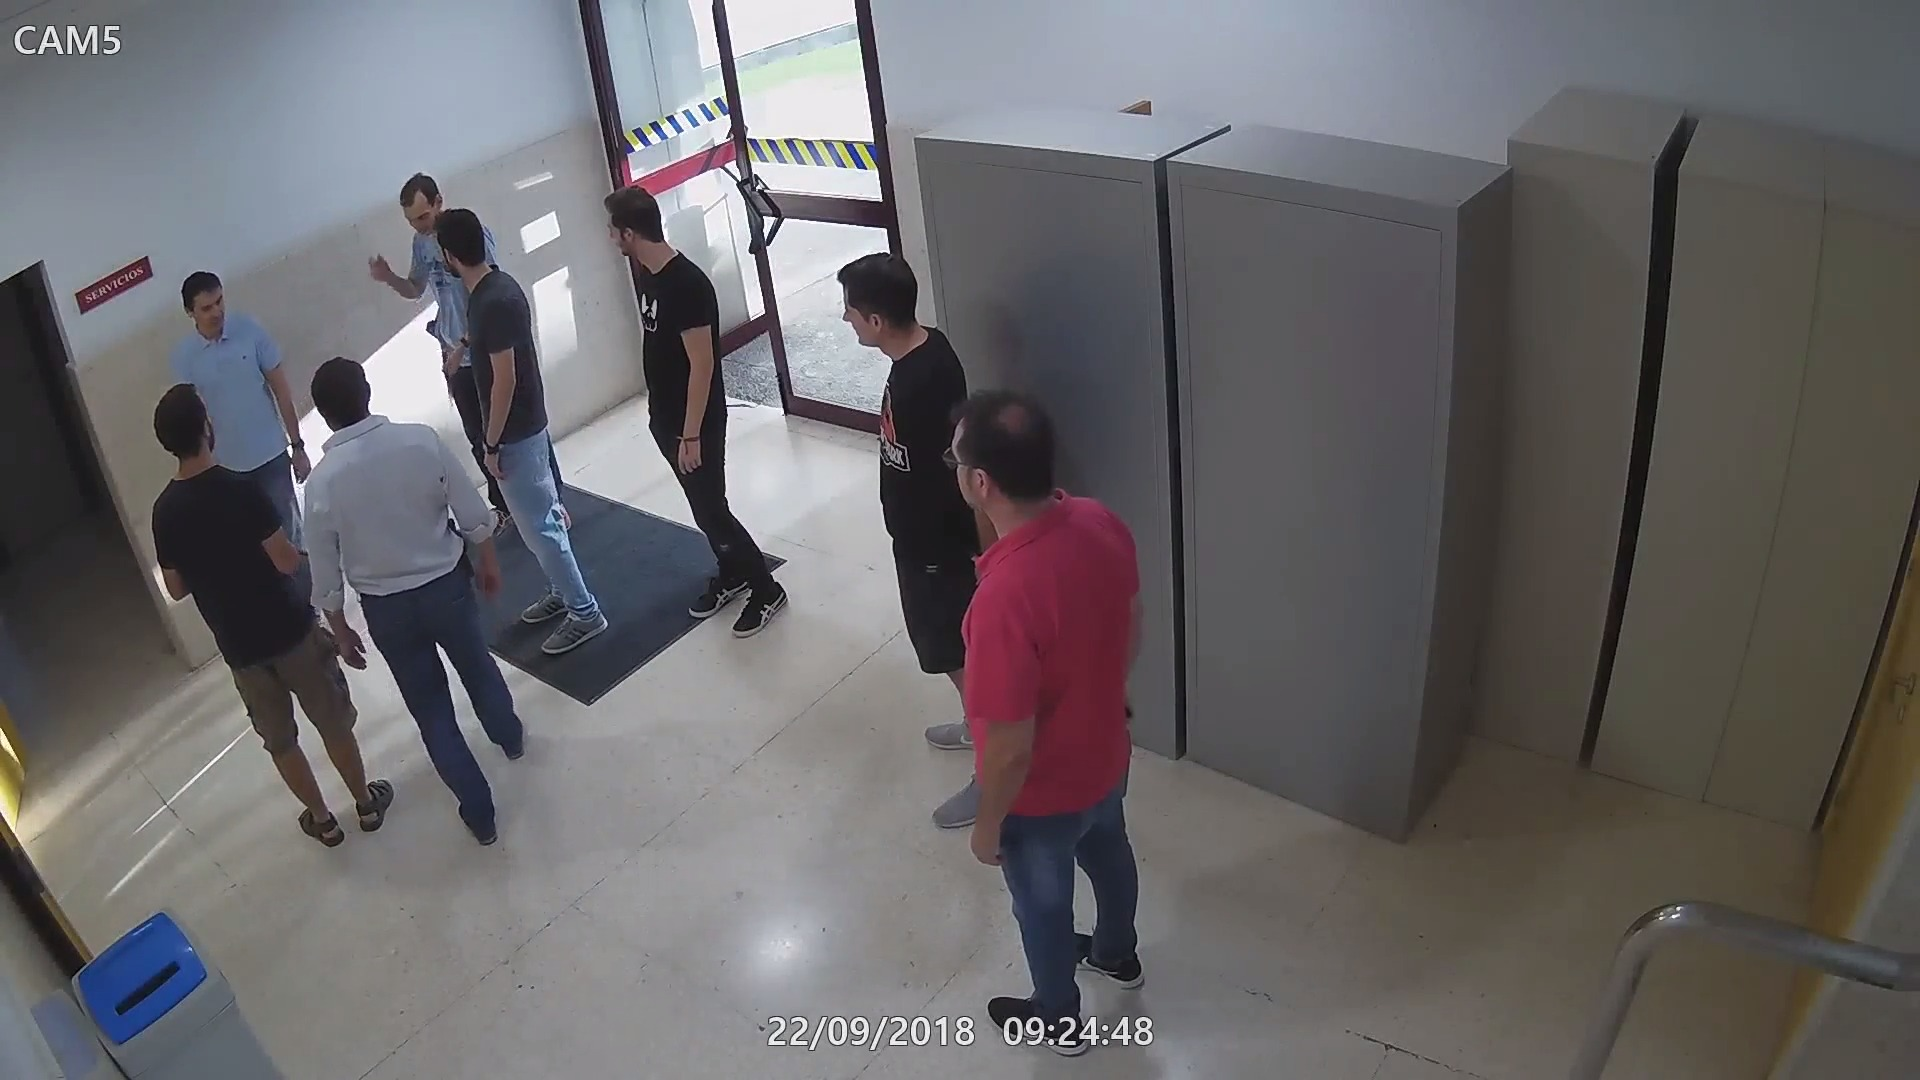Handgun: (448, 518, 481, 584), (415, 310, 438, 336)
Knife: (439, 343, 465, 421)
